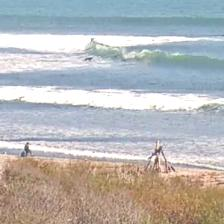surfer: (84, 57, 92, 62), (222, 32, 223, 39)
